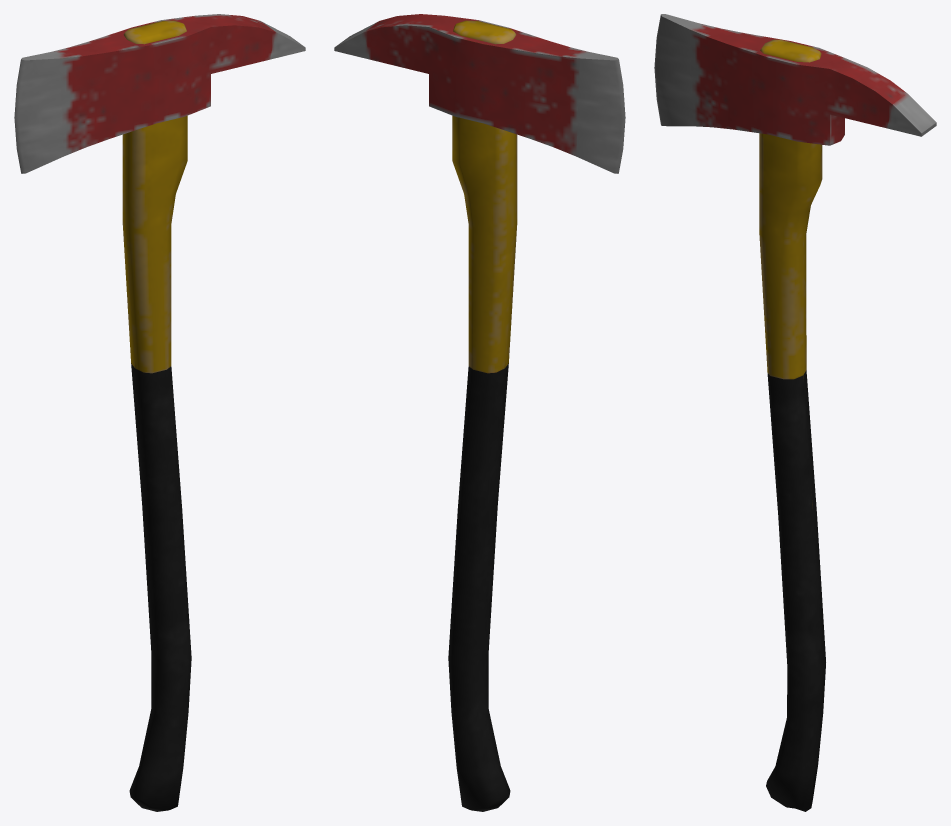
The model's file is fire_axe.obj.
The picture shows the model from 3 angles, left to right: view 1: azimuth 30°, elevation 25°; view 2: azimuth 150°, elevation 25°; view 3: azimuth 330°, elevation 25°; orthographic projection. The views are drawn at different scales.
Parts seen in each view (by area): view 1: Axe_grip, Axe_blade; view 2: Axe_grip, Axe_blade; view 3: Axe_grip, Axe_blade.
Boxes of the visible parts, left/top/right/bottom form: Axe_grip: left=122, top=20, right=191, bottom=811; Axe_blade: left=14, top=14, right=305, bottom=173; Axe_grip: left=448, top=20, right=517, bottom=811; Axe_blade: left=334, top=14, right=625, bottom=173; Axe_grip: left=759, top=39, right=825, bottom=811; Axe_blade: left=654, top=14, right=936, bottom=145.
Bounding box in the file's own units: 0.3978 × 1.06 × 0.0574.
